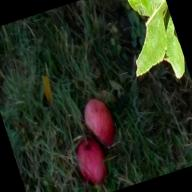Apples: (80, 97, 120, 148), (73, 138, 111, 188)
